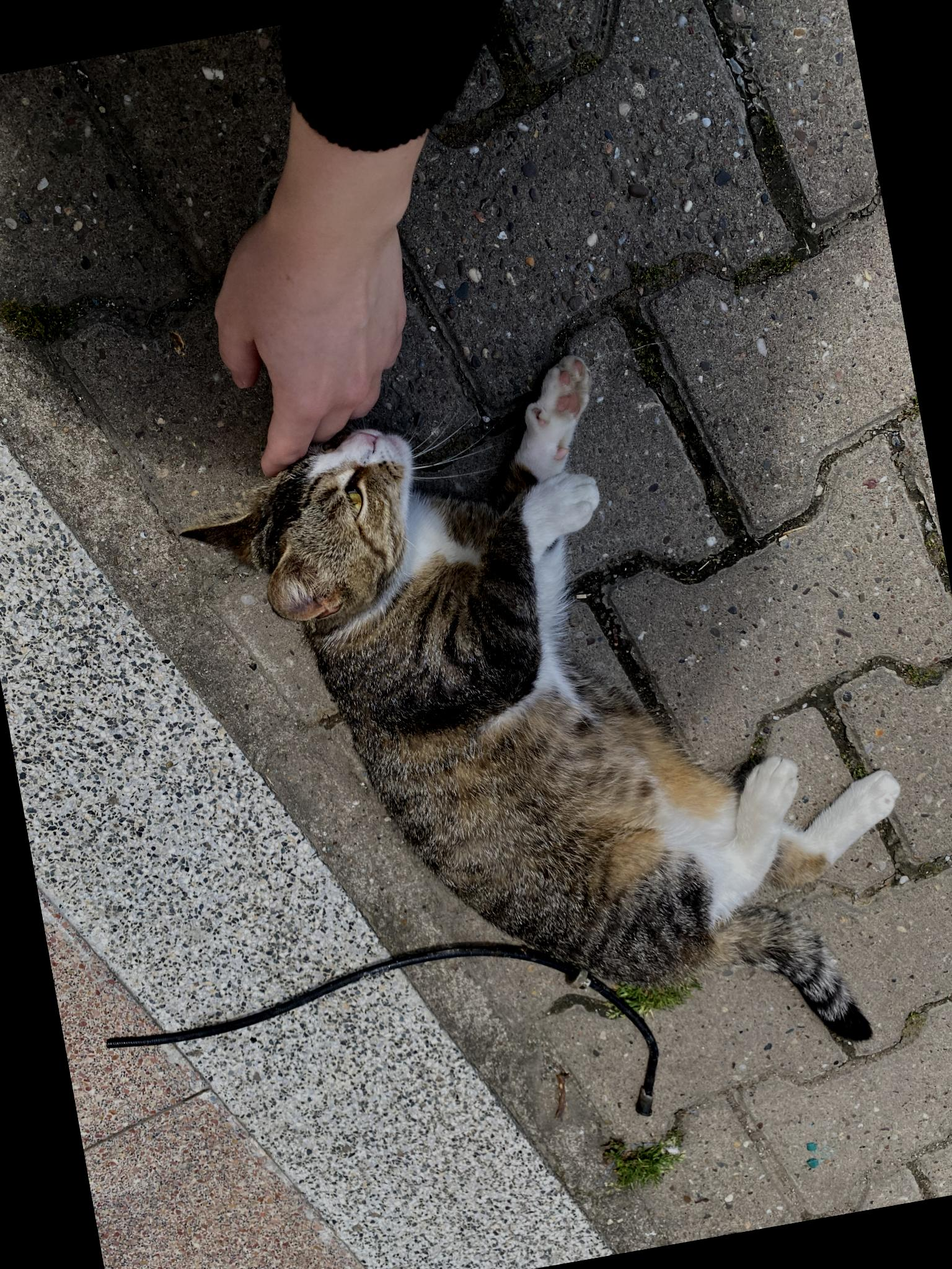macka: (167, 313, 941, 1143)
